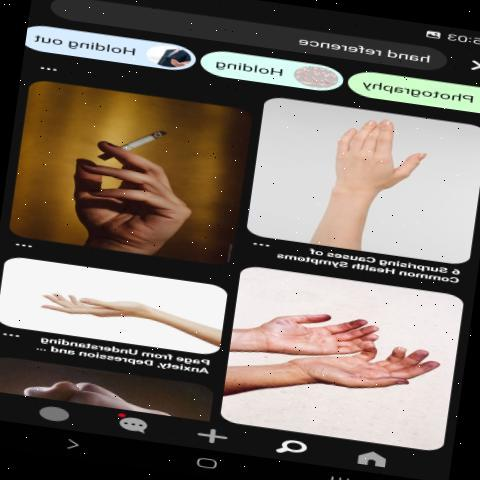Hands: (51, 133, 221, 246), (259, 344, 456, 420), (306, 114, 434, 220), (20, 266, 188, 330), (232, 296, 390, 362)
